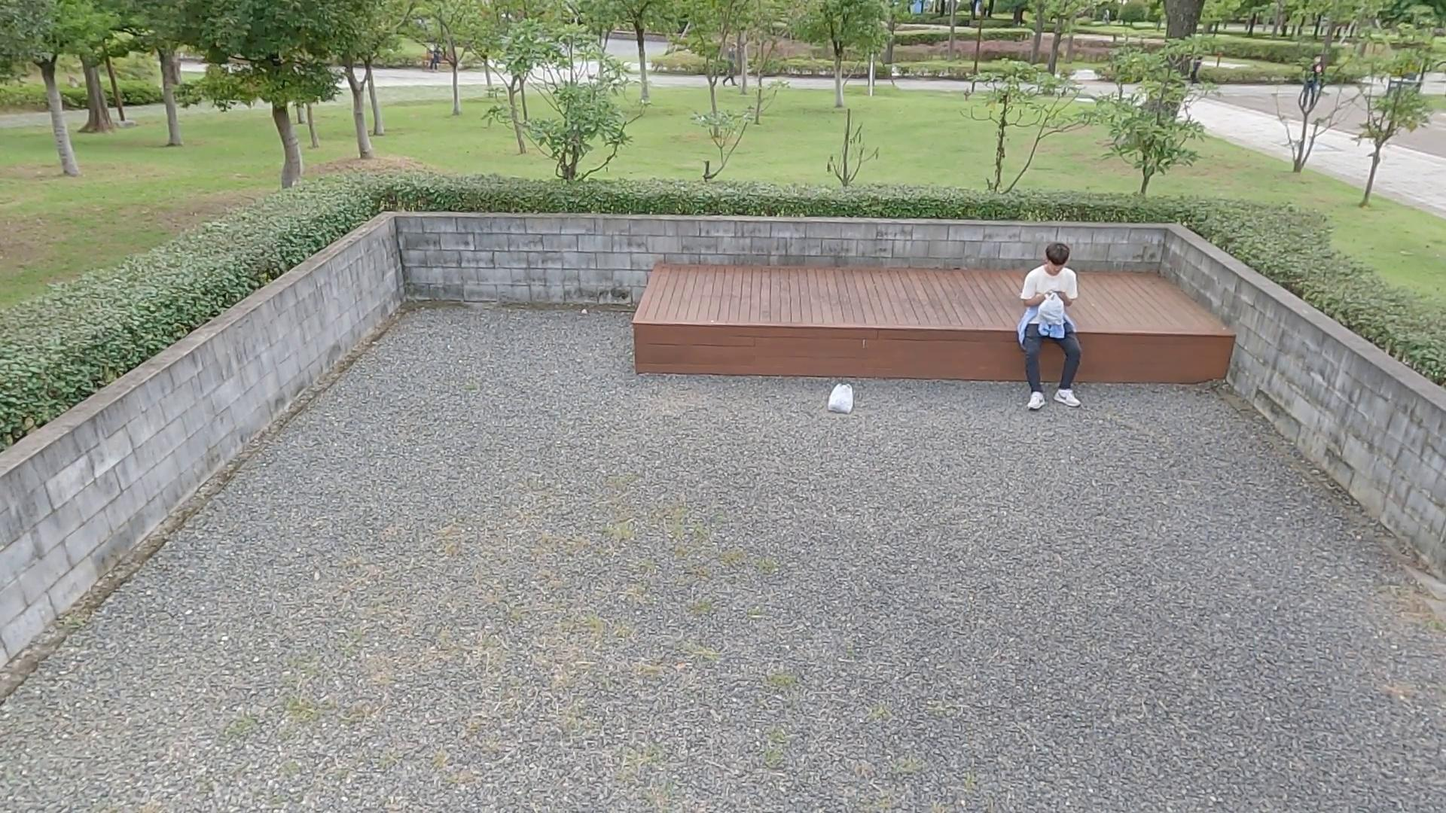person: (1019, 242, 1084, 411)
trash: (827, 383, 855, 414), (1040, 291, 1065, 324)
